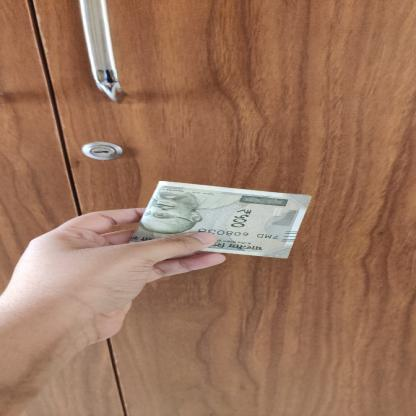New500Front: (127, 180, 315, 260)
